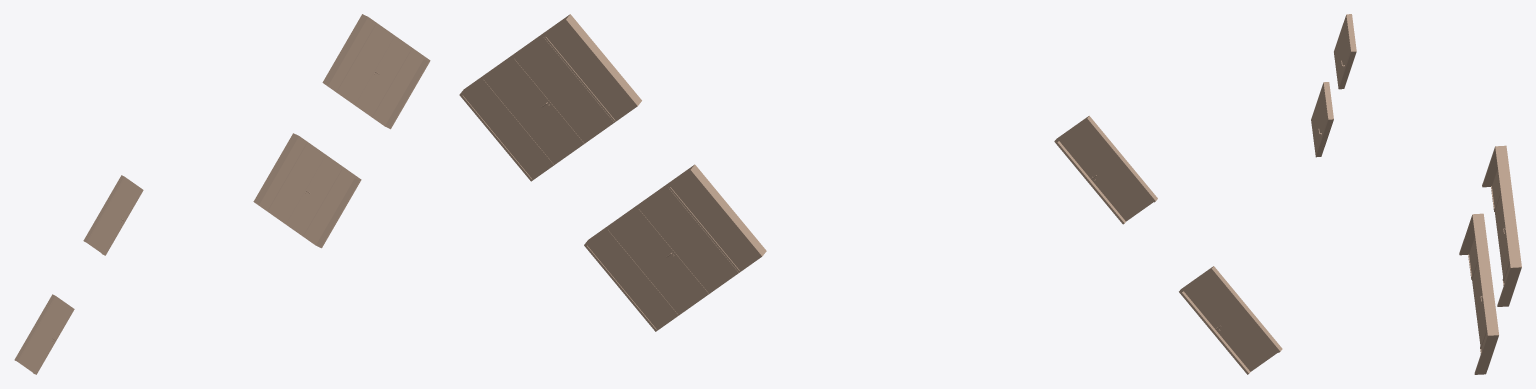
3 views of the same model, side by side, from view 1: azimuth 30°, elevation 25°; view 2: azimuth 150°, elevation 25°; view 3: azimuth 270°, elevation 25° (orthographic). The views are drawn at different scales.
Visible parts, largest first — view 1: mesh; view 2: mesh; view 3: mesh.
Boxes of the visible parts, x1=… form: mesh: x1=14, y1=14, x2=430, y2=374; mesh: x1=459, y1=14, x2=1282, y2=374; mesh: x1=1311, y1=14, x2=1521, y2=374.
Size of the model in its own units: 15.31 by 6.28 by 4.58.
